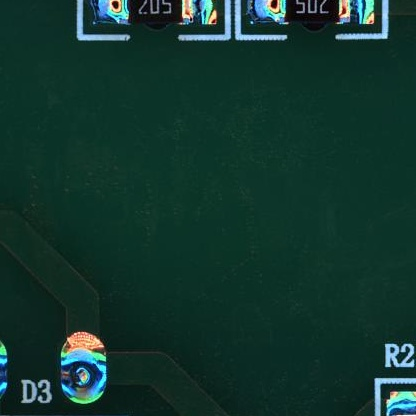spot: (59, 331, 107, 406)
